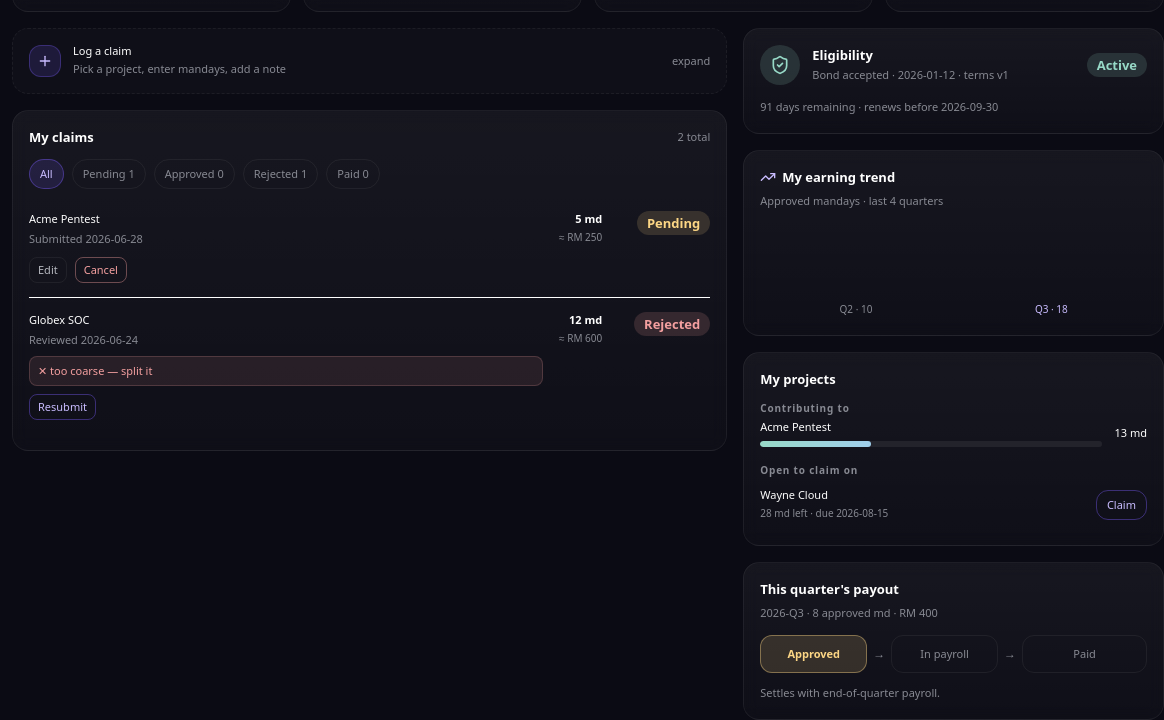
Test: MyIncentivePage › shows the reject reason and a Resubmit action on a rejected claim
(page scrolled)
Expected: the text "✕ too coarse — split it" is shown, left=29, top=356, right=543, bottom=386
Click the button "Resubmit": (62, 407) left=29, top=394, right=96, bottom=420
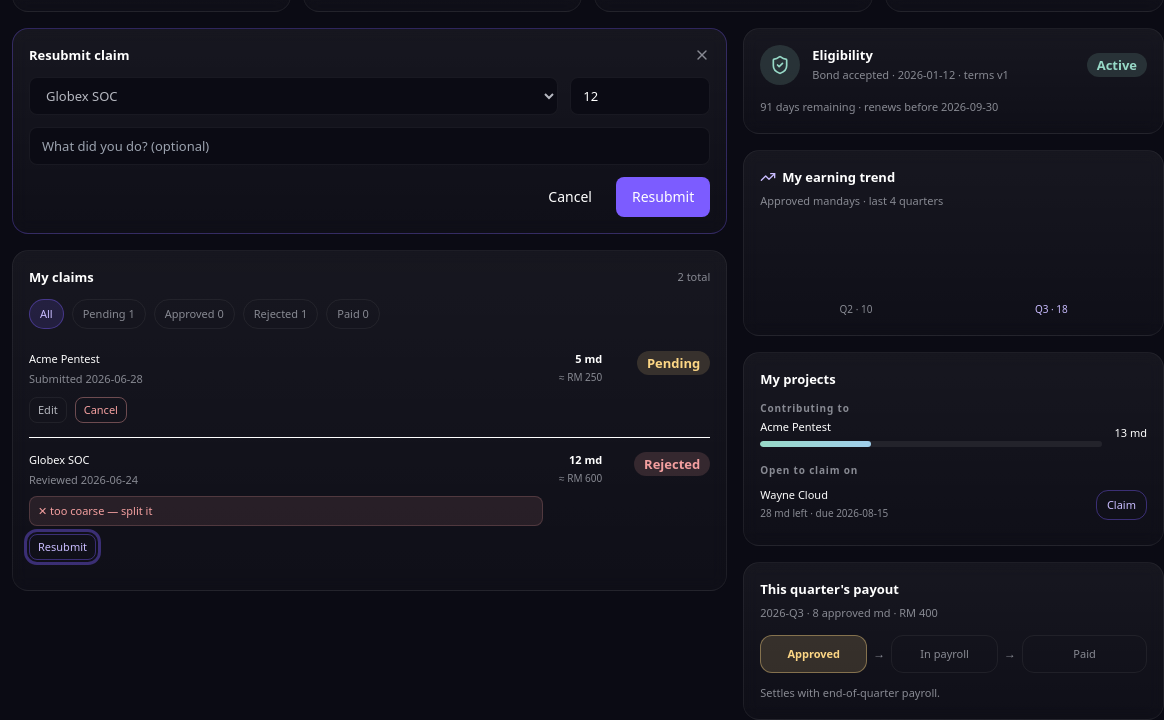
Result: the text "Resubmit claim" is shown at left=29, top=45, right=130, bottom=65
